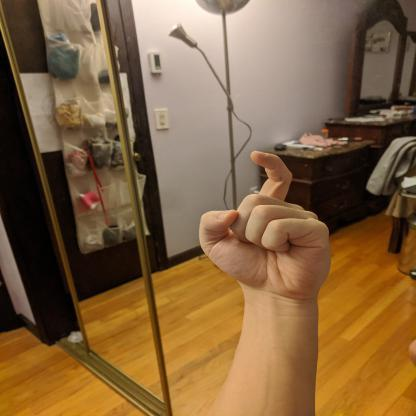X: (196, 148, 334, 304)
